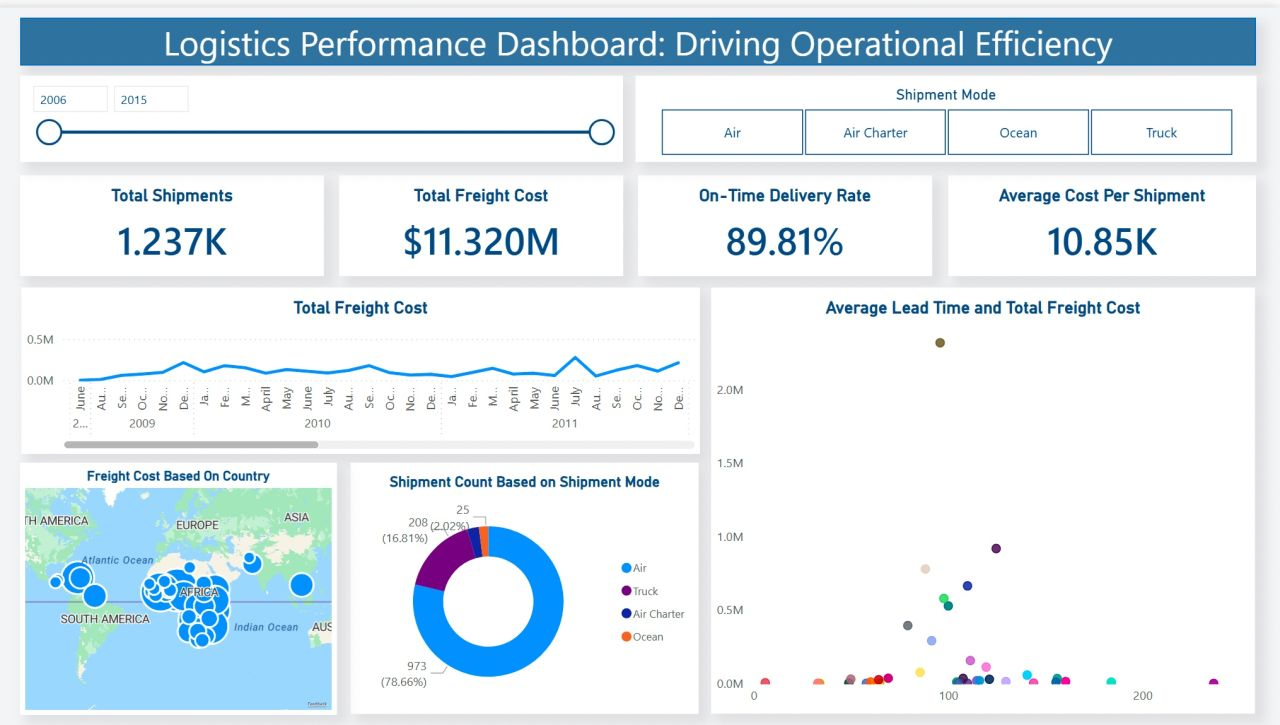

The dashboard page shown, as its layout file describes it:
{"tool":"powerbi","page":{"name":"Page 1","canvas":[1280,720],"ordinal":0},"visuals":[{"type":"cardVisual","title":"Total Shipments","fields":{"Data":["CountNonNull(vw_Fact_Analytics.fulfillment_key)"]},"box":[30,166,301,100],"z":0},{"type":"cardVisual","title":"Total Freight Cost","fields":{"Data":["Sum(vw_Fact_Analytics.freight_cost_usd)"]},"box":[346.2,166.2,281.2,100],"z":1000},{"type":"cardVisual","title":"On-Time Delivery Rate","fields":{"Data":["vw_Fact_Analytics.OnTime_Delivery_Rate"]},"box":[642.5,166.2,291.2,100],"z":2000},{"type":"cardVisual","title":"Average Cost Per Shipment","fields":{"Data":["Avg(vw_Fact_Analytics.freight_cost_usd)"]},"box":[950,166.2,305,100],"z":3000},{"type":"lineChart","title":"Total Freight Cost","fields":{"Y":["Sum(vw_Fact_Analytics.freight_cost_usd)"],"Category":["DateTable.Year","DateTable.Date.Variation.Date Hierarchy.Month"]},"box":[31.2,277.5,672.5,165],"z":4000},{"type":"donutChart","title":"Shipment Count Based on Shipment Mode","fields":{"Category":["vw_Fulfillment_Analytics.shipment_mode"],"Y":["CountNonNull(vw_Fact_Analytics.fulfillment_key)"]},"box":[357.5,451.2,345,248.8],"z":5000},{"type":"scatterChart","title":"Average Lead Time and Total Freight Cost","fields":{"X":["Avg(vw_Fact_Analytics.Vendor_Lead_Time_Days)"],"Y":["Sum(vw_Fact_Analytics.freight_cost_usd)"],"Series":["vw_Vendor_Analytics.vendor_name"]},"box":[715,277.5,538.8,422.5],"z":6000},{"type":"azureMap","title":"Freight Cost Based On Country","fields":{"Category":["vw_Project_Analytics.country"],"Size":["Sum(vw_Fact_Analytics.freight_cost_usd)"]},"box":[30,451.2,313.8,250],"z":7000},{"type":"shape","box":[30,10,1225,47.5],"z":8000},{"type":"slicer","fields":{"Values":["DateTable.Year"]},"box":[30,67.3,597.3,85.5],"z":8001},{"type":"slicer","title":"Shipment Mode","fields":{"Values":["vw_Fulfillment_Analytics.shipment_mode"]},"box":[640,67.3,615.5,85.5],"z":8002}]}

Visuals, with their boxes in screenshot pixels (x1, y1, x2, y2), scaled from the page's 1280x720 canvas onto the 1280x725 screenshot:
"Total Shipments" cardVisual: box=[30, 167, 331, 268]
"Total Freight Cost" cardVisual: box=[346, 167, 627, 268]
"On-Time Delivery Rate" cardVisual: box=[642, 167, 934, 268]
"Average Cost Per Shipment" cardVisual: box=[950, 167, 1255, 268]
"Total Freight Cost" lineChart: box=[31, 279, 704, 446]
"Shipment Count Based on Shipment Mode" donutChart: box=[358, 454, 702, 705]
"Average Lead Time and Total Freight Cost" scatterChart: box=[715, 279, 1254, 705]
"Freight Cost Based On Country" azureMap: box=[30, 454, 344, 706]
shape: box=[30, 10, 1255, 58]
slicer - DateTable.Year: box=[30, 68, 627, 154]
"Shipment Mode" slicer: box=[640, 68, 1256, 154]
